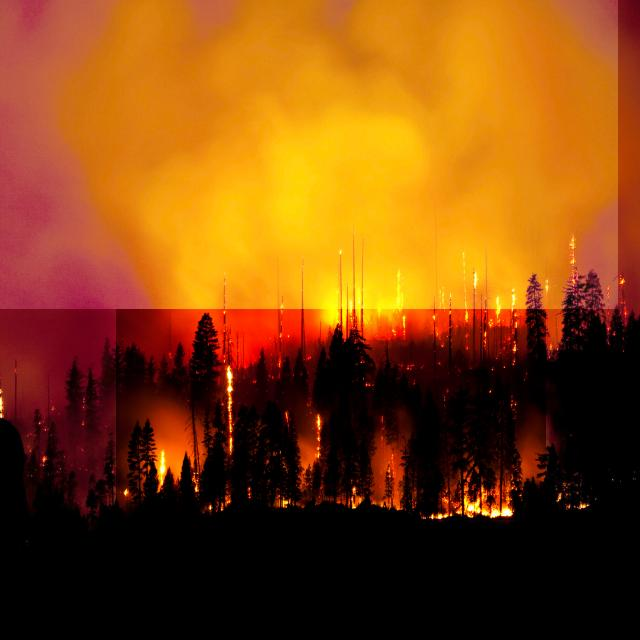Fire: (116, 256, 546, 520)
Smoke: (0, 0, 618, 309)
